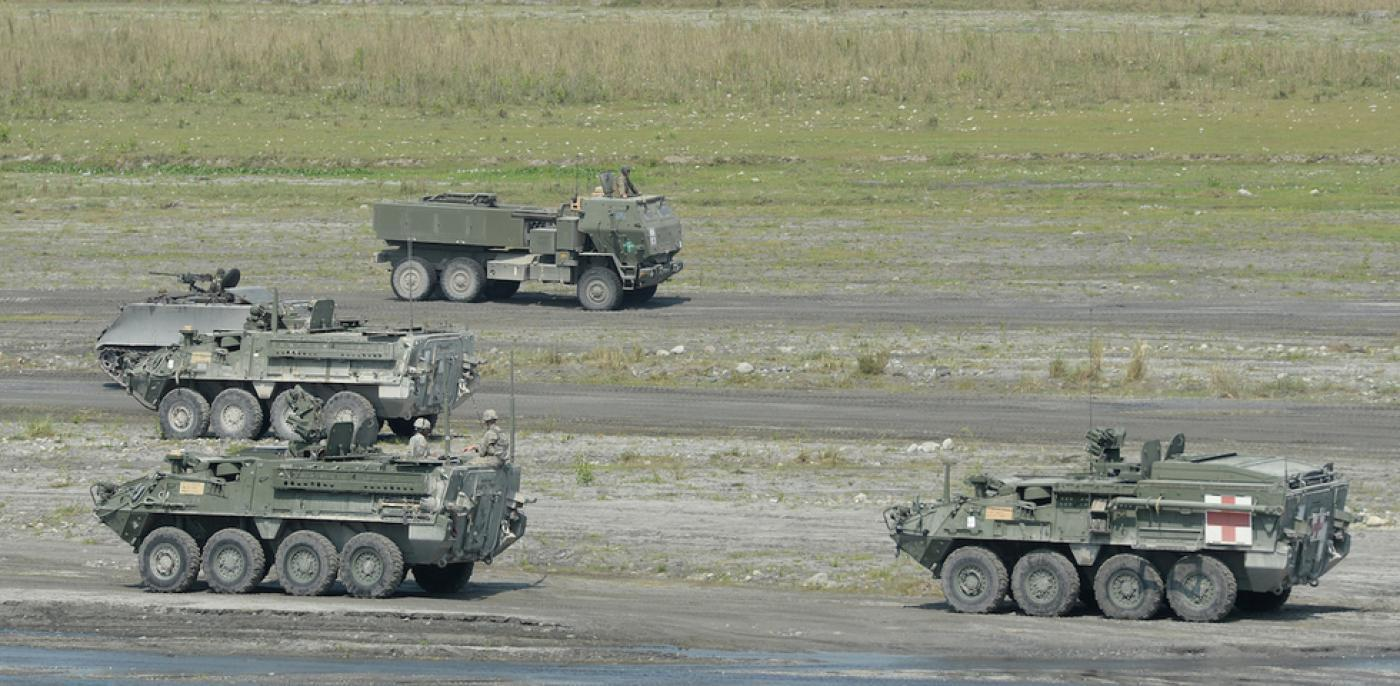tank: (879, 422, 1364, 624), (76, 422, 556, 623), (364, 160, 706, 318), (123, 296, 481, 444), (93, 264, 280, 390)
